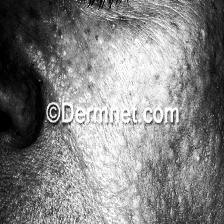Unclassified: (26, 8, 44, 32), (142, 34, 158, 50)
